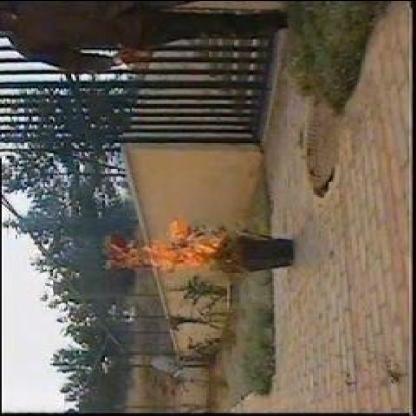foggia-v2-map80-epoch100 - v1 4323: (106, 234, 222, 269)
